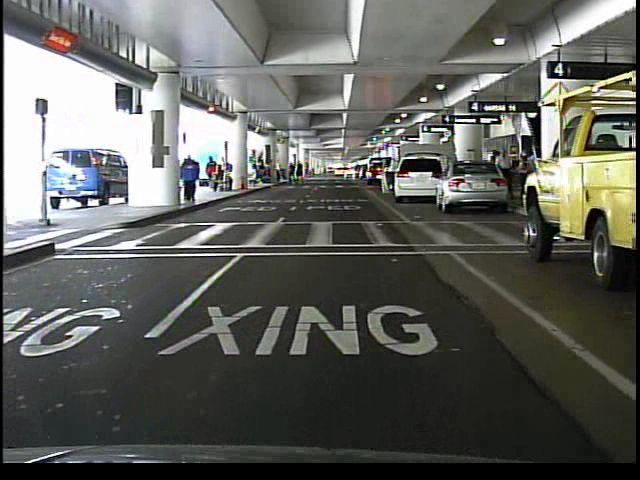person: (178, 152, 203, 206)
